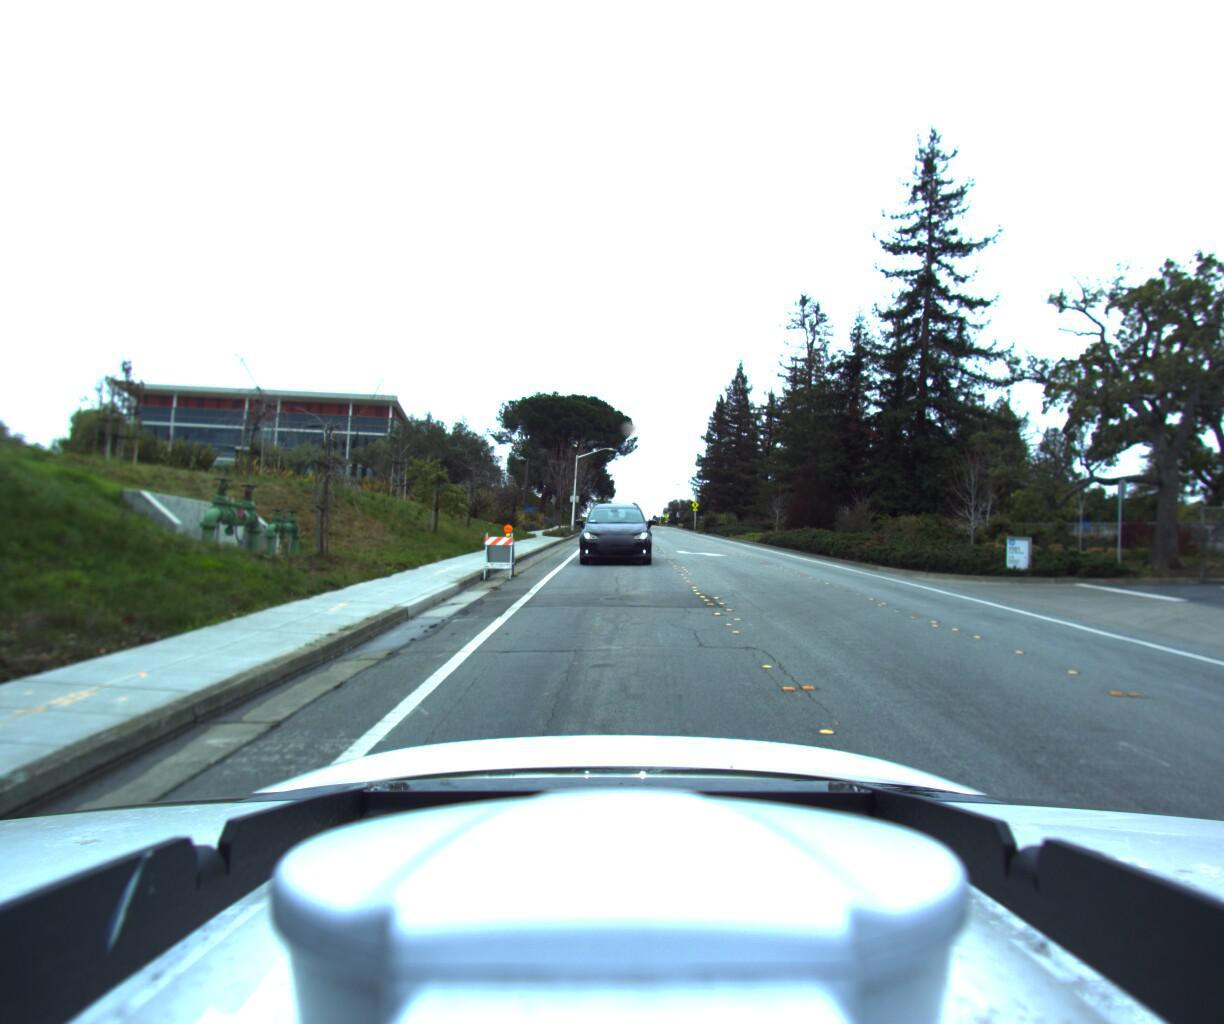car: (573, 493, 653, 570)
